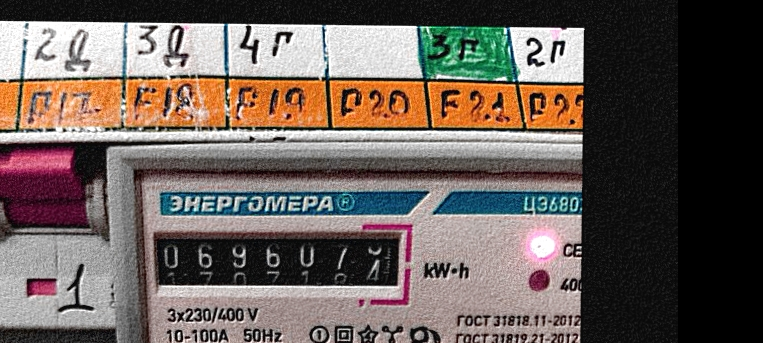0: (298, 240, 316, 270), (163, 242, 180, 270)
4: (365, 255, 382, 285)
6: (197, 241, 214, 270), (265, 240, 282, 269)
7: (332, 241, 351, 272)
9: (230, 242, 248, 270)
screen: (141, 218, 419, 305)
